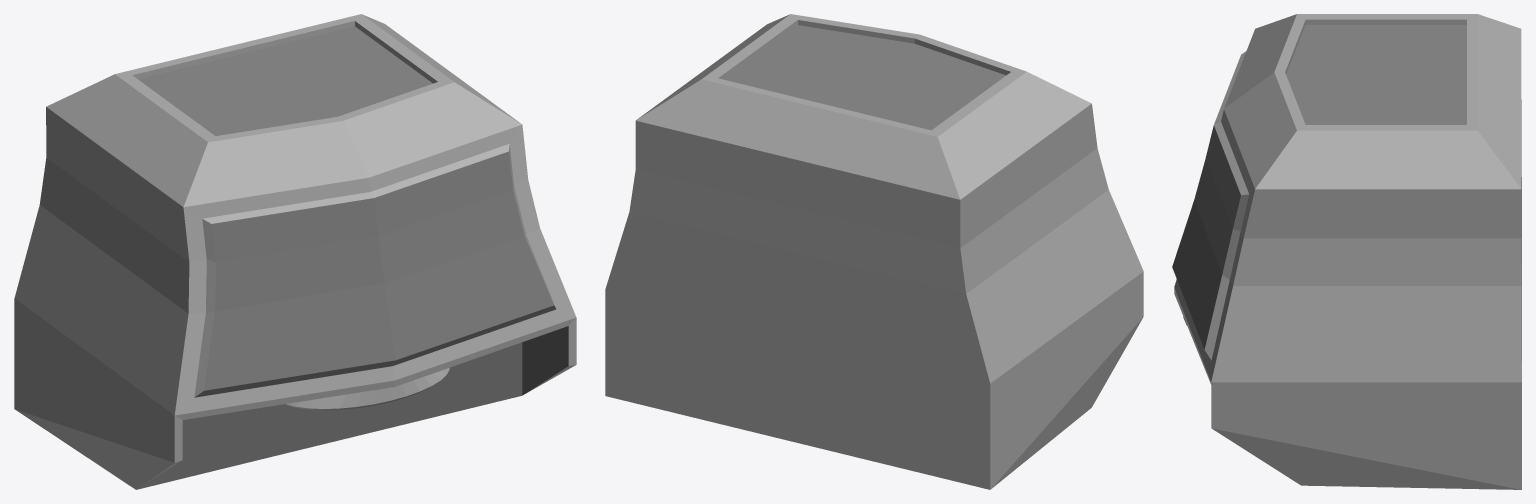
File: Air Hand Dryer #2.fbx
3 views of the same model, side by side, from view 1: azimuth 30°, elevation 25°; view 2: azimuth 150°, elevation 25°; view 3: azimuth 270°, elevation 25° (orthographic). The views are drawn at different scales.
Parts seen in each view (by area): view 1: Air Hand Dryer #2; view 2: Air Hand Dryer #2; view 3: Air Hand Dryer #2.
Part boxes in pixels (x1=…): Air Hand Dryer #2: x1=14, y1=14, x2=576, y2=489; Air Hand Dryer #2: x1=605, y1=14, x2=1143, y2=489; Air Hand Dryer #2: x1=1172, y1=14, x2=1521, y2=489.
Size of the model in its own units: 60.27 by 47.7 by 46.86.
Materials: 1 (1 with a texture image).
